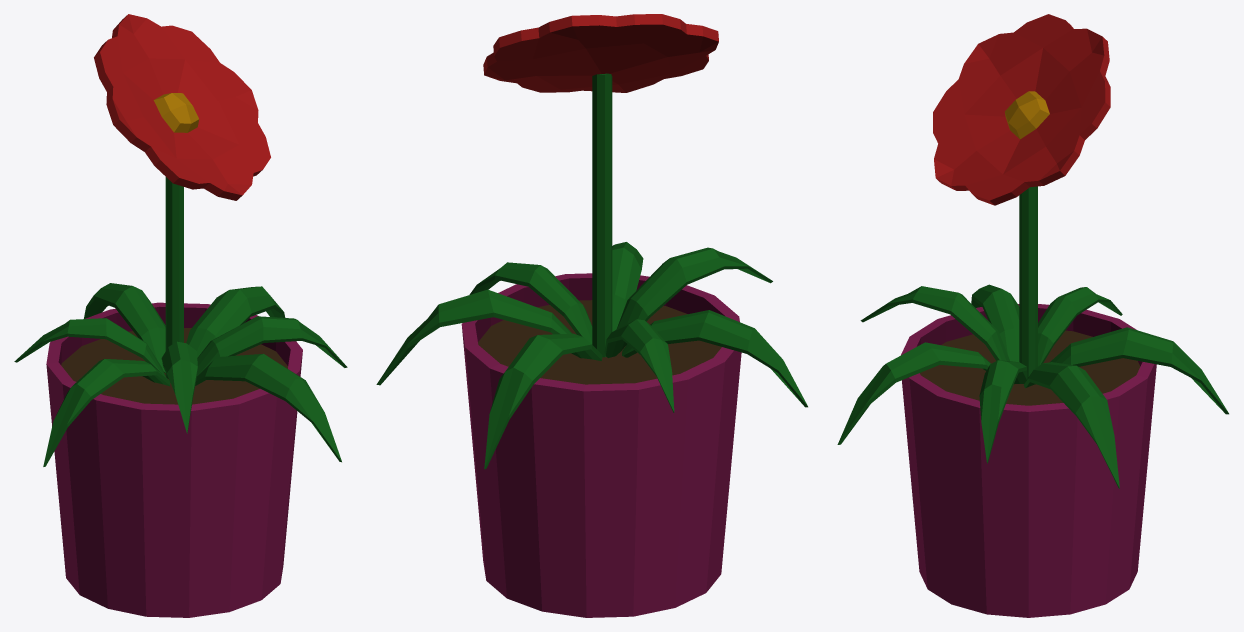
The model's file is Plant2.fbx.
The picture shows the model from 3 angles, left to right: view 1: azimuth 30°, elevation 25°; view 2: azimuth 150°, elevation 25°; view 3: azimuth 270°, elevation 25°; orthographic projection. The views are drawn at different scales.
Parts seen in each view (by area): view 1: Prop_Homeplant_02; view 2: Prop_Homeplant_02; view 3: Prop_Homeplant_02.
Part boxes in pixels (x1,y1,x2,y2): Prop_Homeplant_02: (14, 14, 347, 617); Prop_Homeplant_02: (376, 14, 807, 617); Prop_Homeplant_02: (837, 14, 1228, 617).
Size of the model in its own units: 29.91 by 47.58 by 31.83.
1 material, 1 textured.
